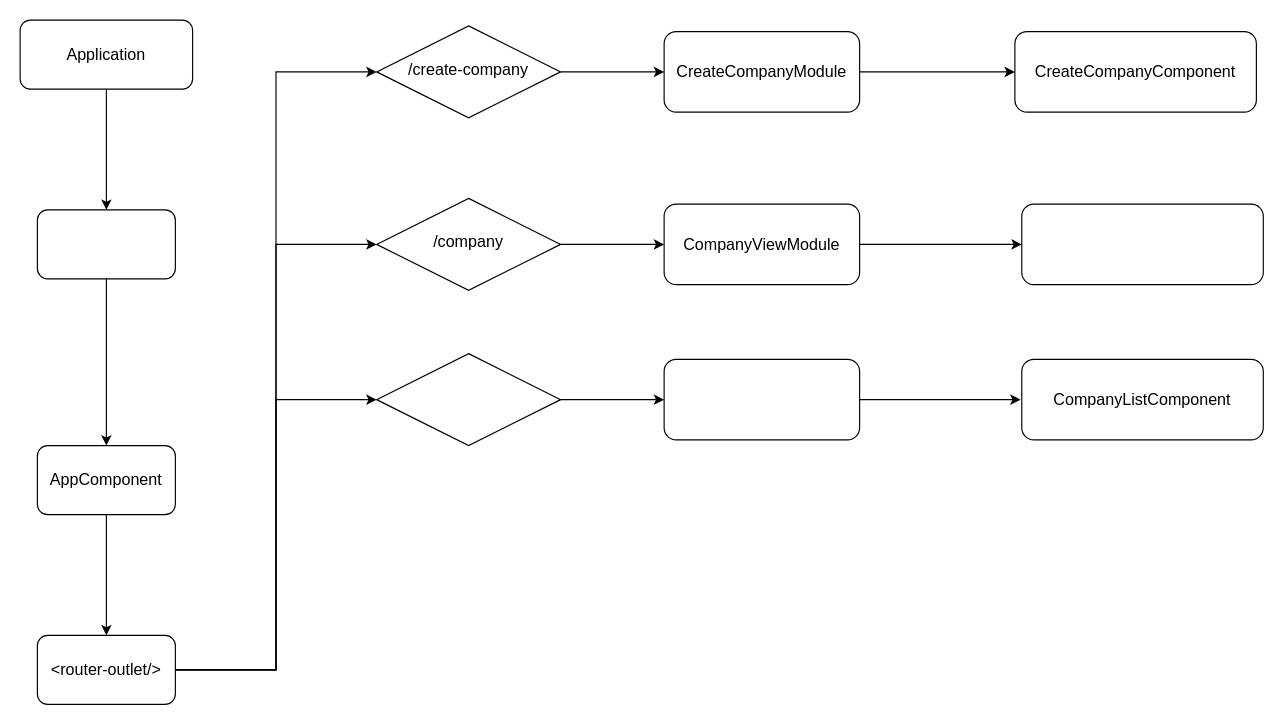
Image size: 1283x725. Some labels were removed from this diagram. The box of each missing label's shape, as (x1, y1, x2, y2) in pixels:
/companies: (375, 352, 561, 446)
AppModule: (36, 209, 175, 279)
CompanyModule: (663, 358, 860, 440)
CompanyViewComponent: (1021, 203, 1263, 285)
